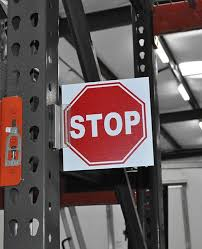SS: (68, 85, 145, 165)
